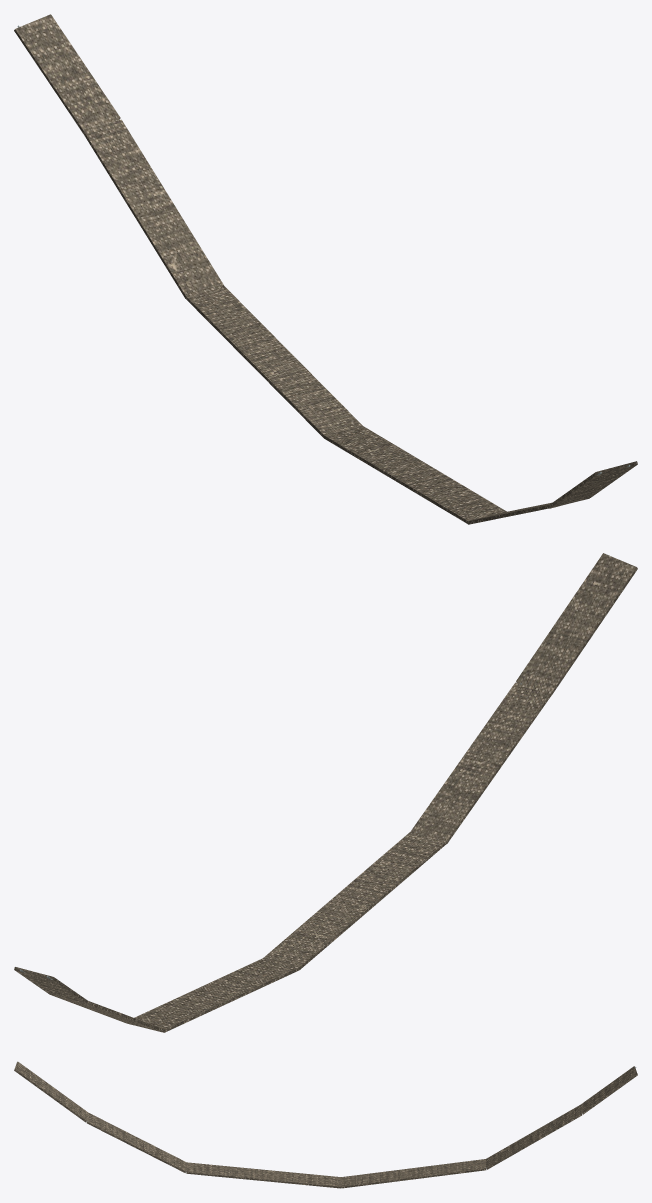
File: flex_seat_sling.fbx
The picture shows the model from 3 angles, top to bottom: view 1: azimuth 30°, elevation 25°; view 2: azimuth 150°, elevation 25°; view 3: azimuth 270°, elevation 25°; orthographic projection. The views are drawn at different scales.
Visible parts, largest first — view 1: SM_flex_seat_sling; view 2: SM_flex_seat_sling; view 3: SM_flex_seat_sling.
Part boxes in pixels (x1,y1,x2,y2): SM_flex_seat_sling: (14,14,637,524); SM_flex_seat_sling: (14,553,637,1032); SM_flex_seat_sling: (14,1061,637,1188).
Size of the model in its own units: 0.0409 by 0.0982 by 0.5121.
2 materials, 2 textured.
